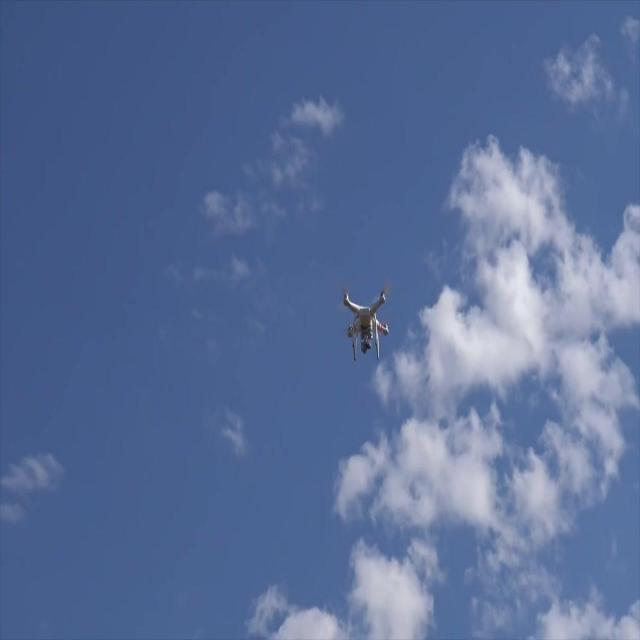UAV: (344, 291, 388, 361)
